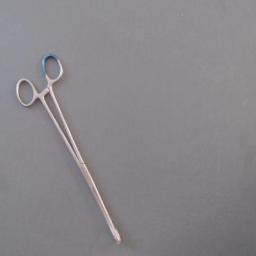Sponge Forceps: (11, 48, 129, 250)
